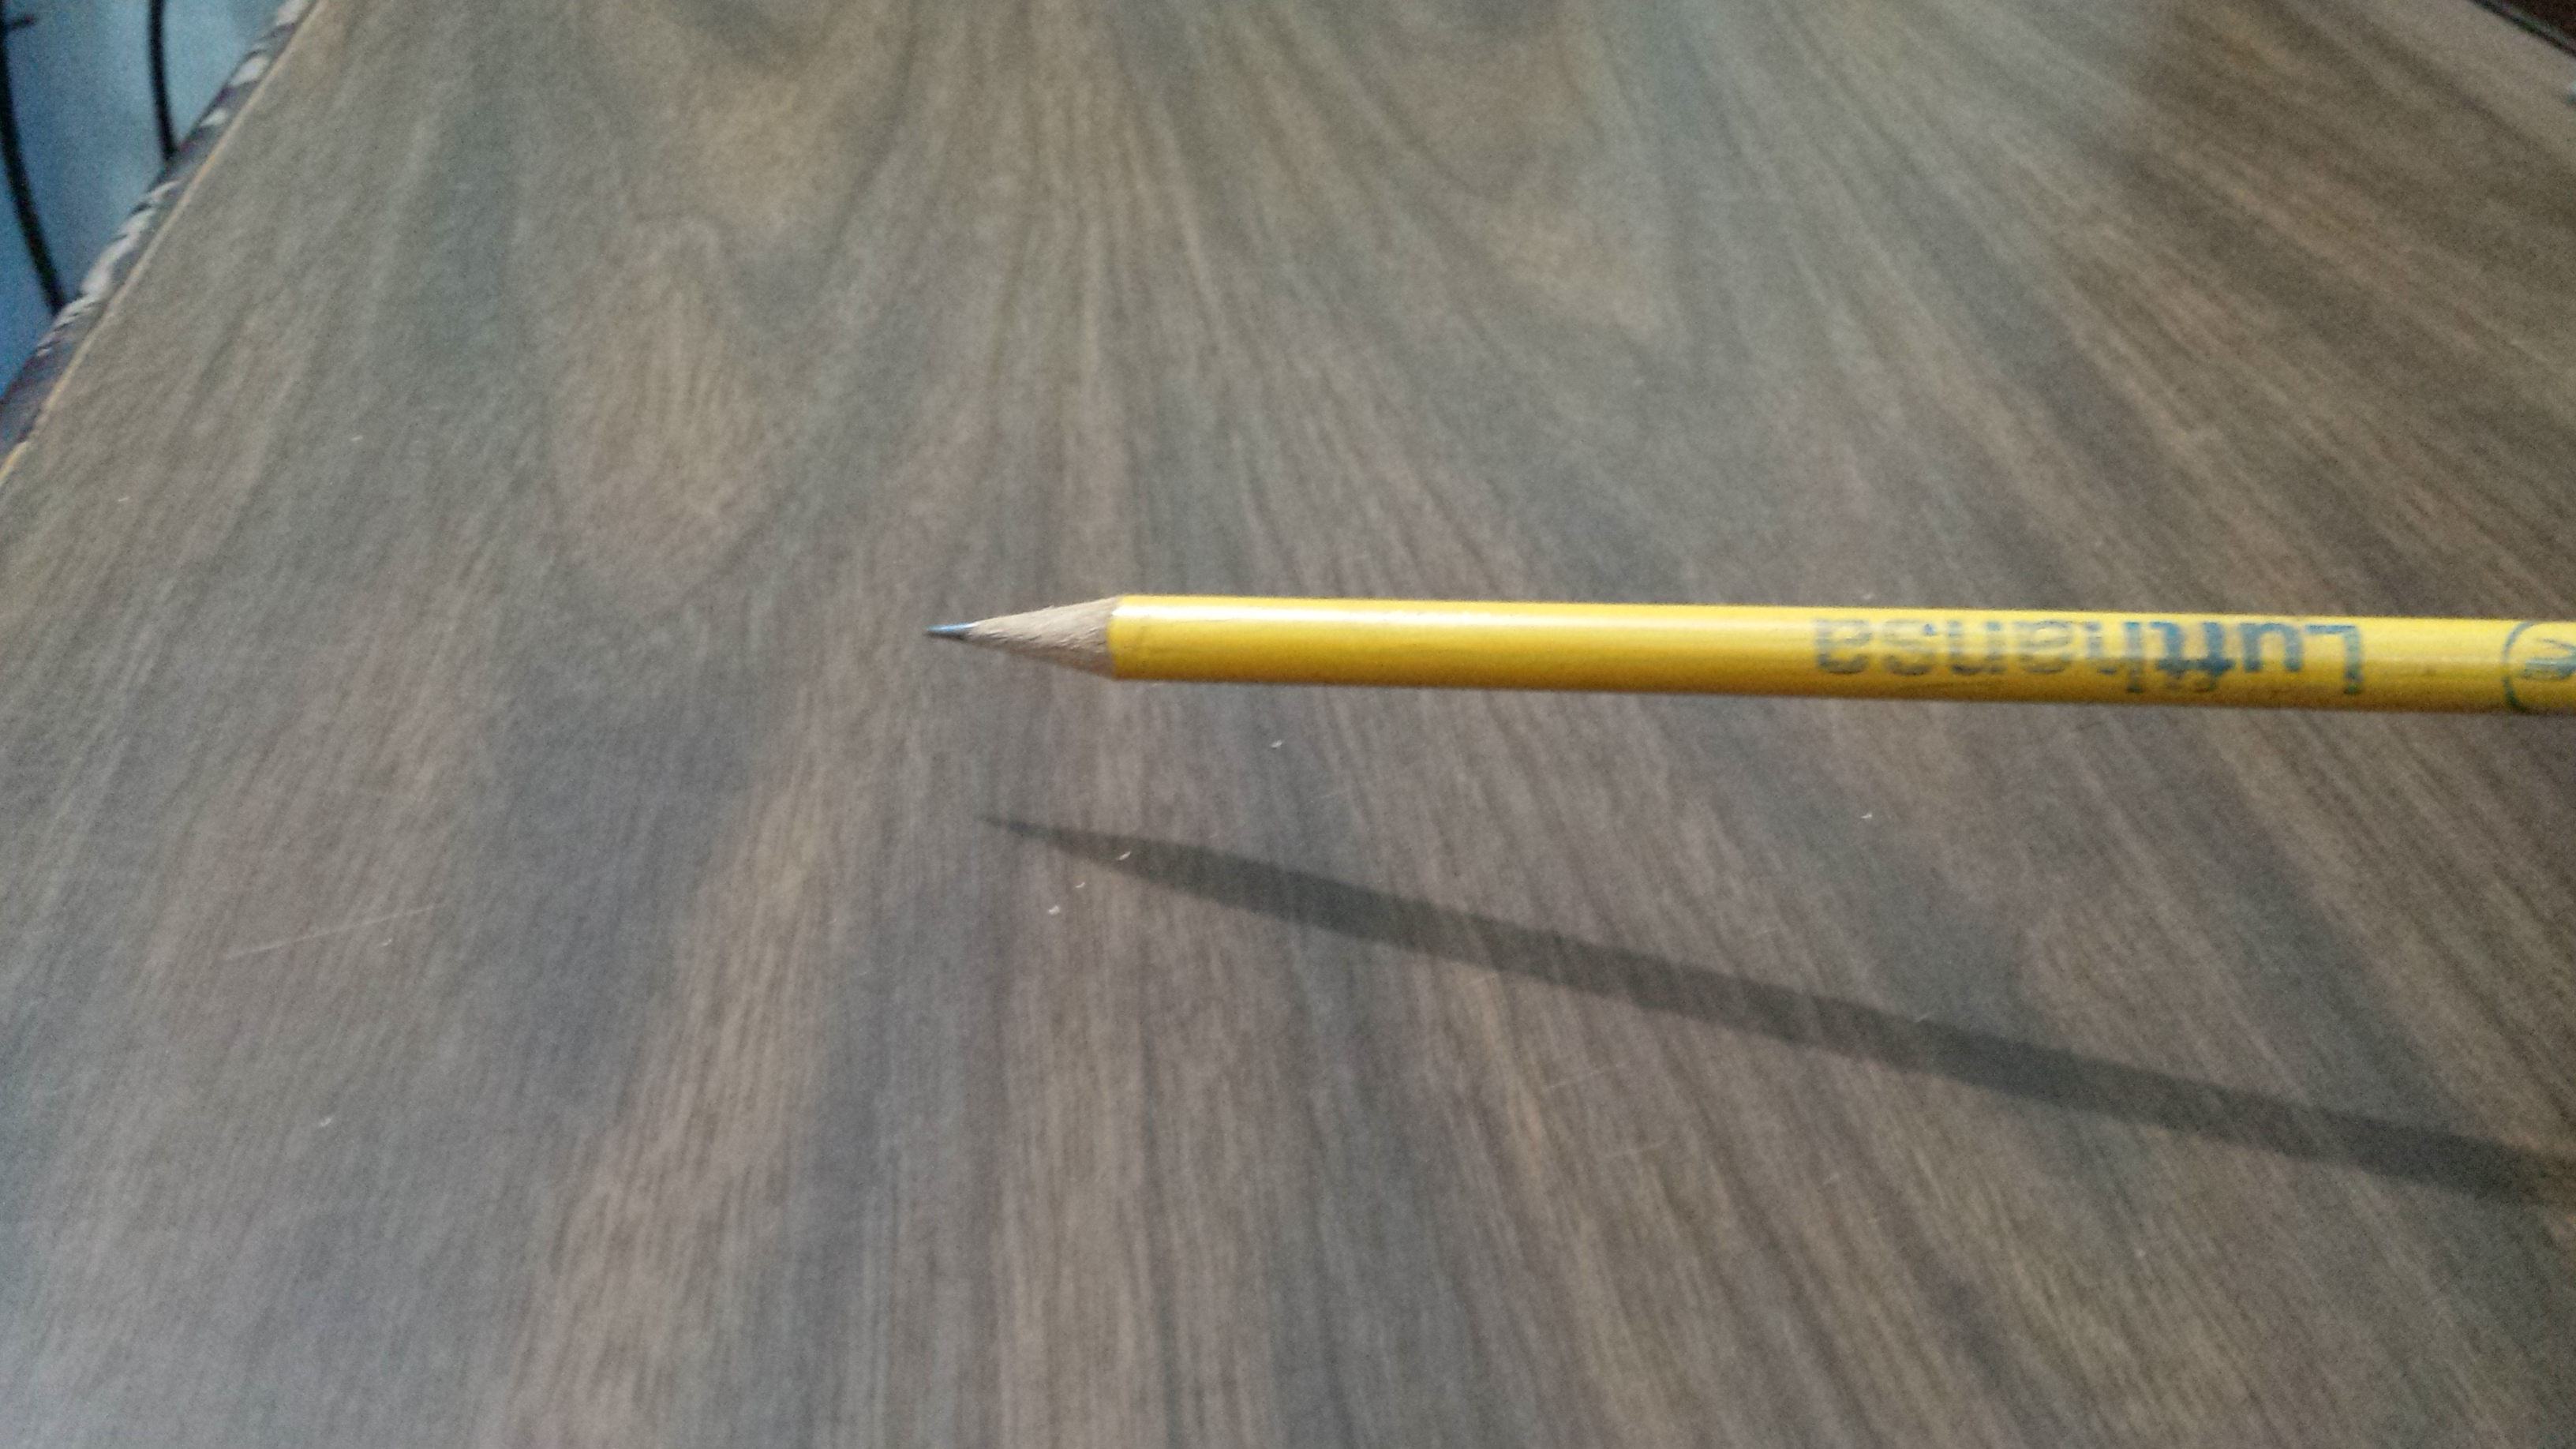pen_tip: (904, 513, 1168, 732)
